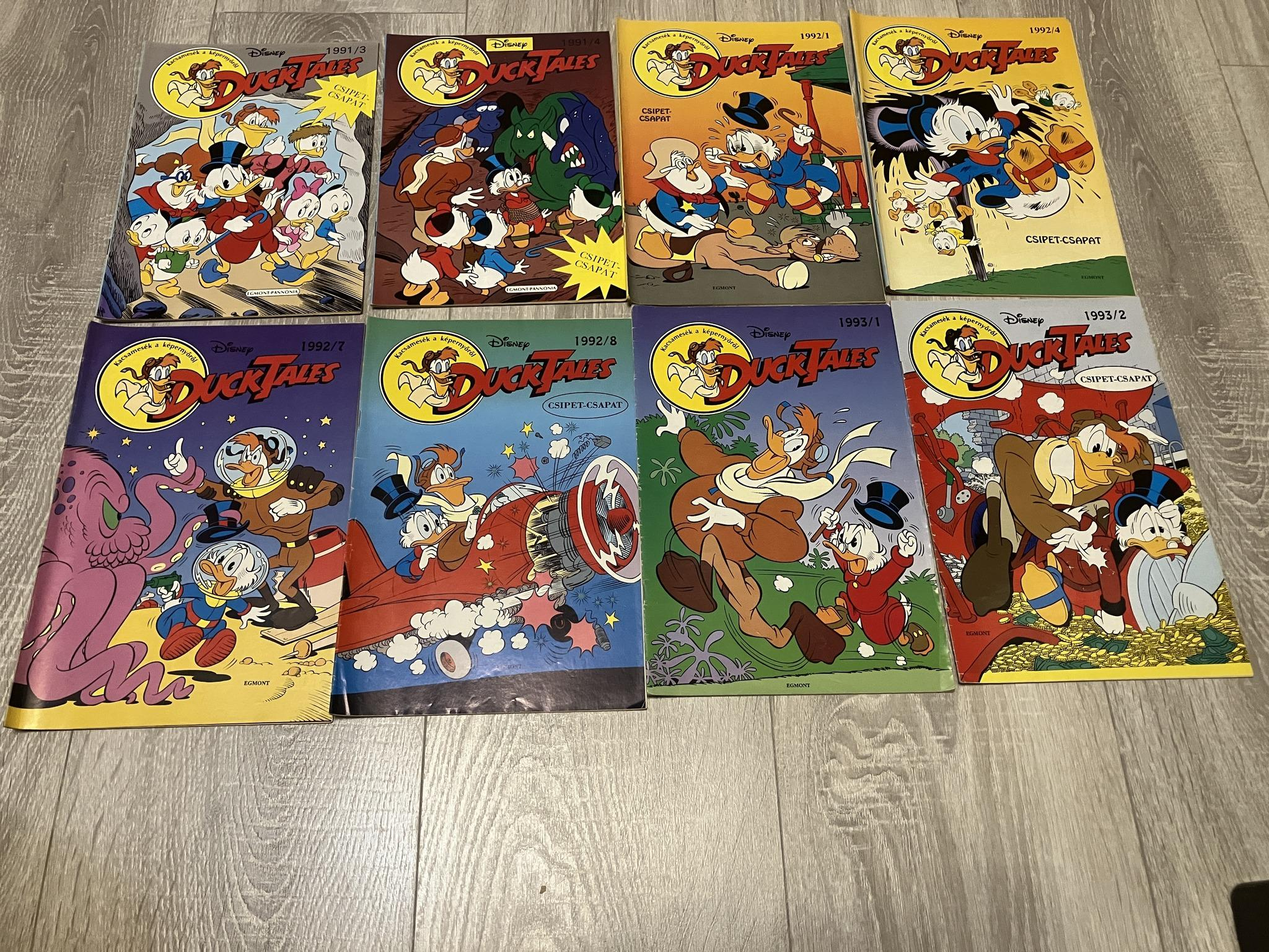comic: (888, 250, 1251, 729), (5, 312, 363, 739), (633, 295, 954, 701), (329, 315, 645, 715), (846, 0, 1133, 330), (98, 36, 378, 327), (616, 8, 882, 312), (369, 31, 626, 307)
